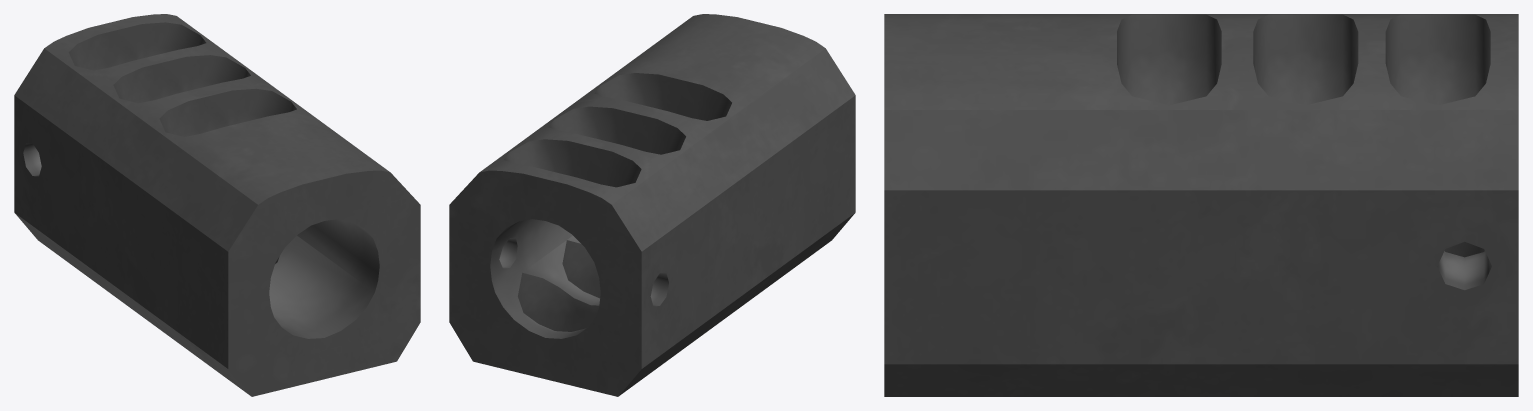
The model's file is IG_Acc_Muzzle_PST_REC_2.fbx.
The picture shows the model from 3 angles, left to right: view 1: azimuth 30°, elevation 25°; view 2: azimuth 150°, elevation 25°; view 3: azimuth 270°, elevation 25°; orthographic projection. The views are drawn at different scales.
Parts seen in each view (by area): view 1: Muzzle_PST_REC_2; view 2: Muzzle_PST_REC_2; view 3: Muzzle_PST_REC_2.
Part boxes in pixels (x1=…): Muzzle_PST_REC_2: x1=14, y1=14, x2=420, y2=396; Muzzle_PST_REC_2: x1=449, y1=14, x2=855, y2=396; Muzzle_PST_REC_2: x1=884, y1=14, x2=1518, y2=396.
Size of the model in its own units: 0.057 by 0.0566 by 0.1097.
